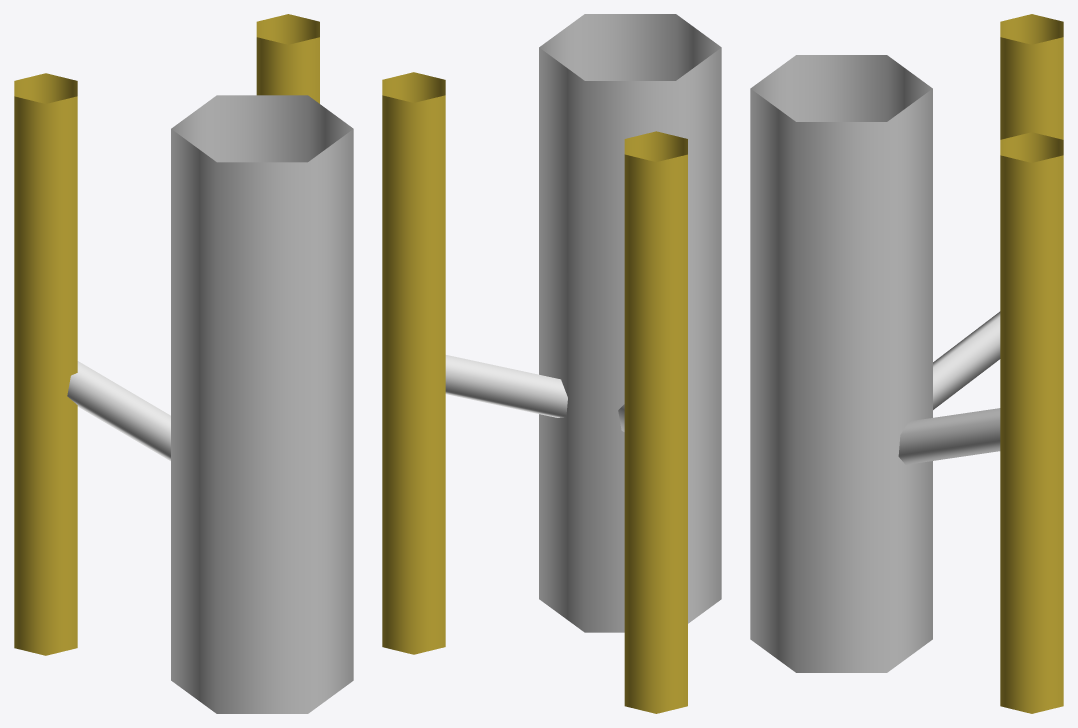
Rendered from Track 1.fbx.
3 views of the same model, side by side, from view 1: azimuth 30°, elevation 25°; view 2: azimuth 150°, elevation 25°; view 3: azimuth 270°, elevation 25° (orthographic).
Visible parts, largest first — view 1: Cylinder; view 2: Cylinder; view 3: Cylinder.
Part boxes in pixels (<box>): Cylinder: <box>14,14,353,713</box>; Cylinder: <box>382,14,721,713</box>; Cylinder: <box>750,14,1063,713</box>.
Size of the model in its own units: 290 by 500 by 257.
